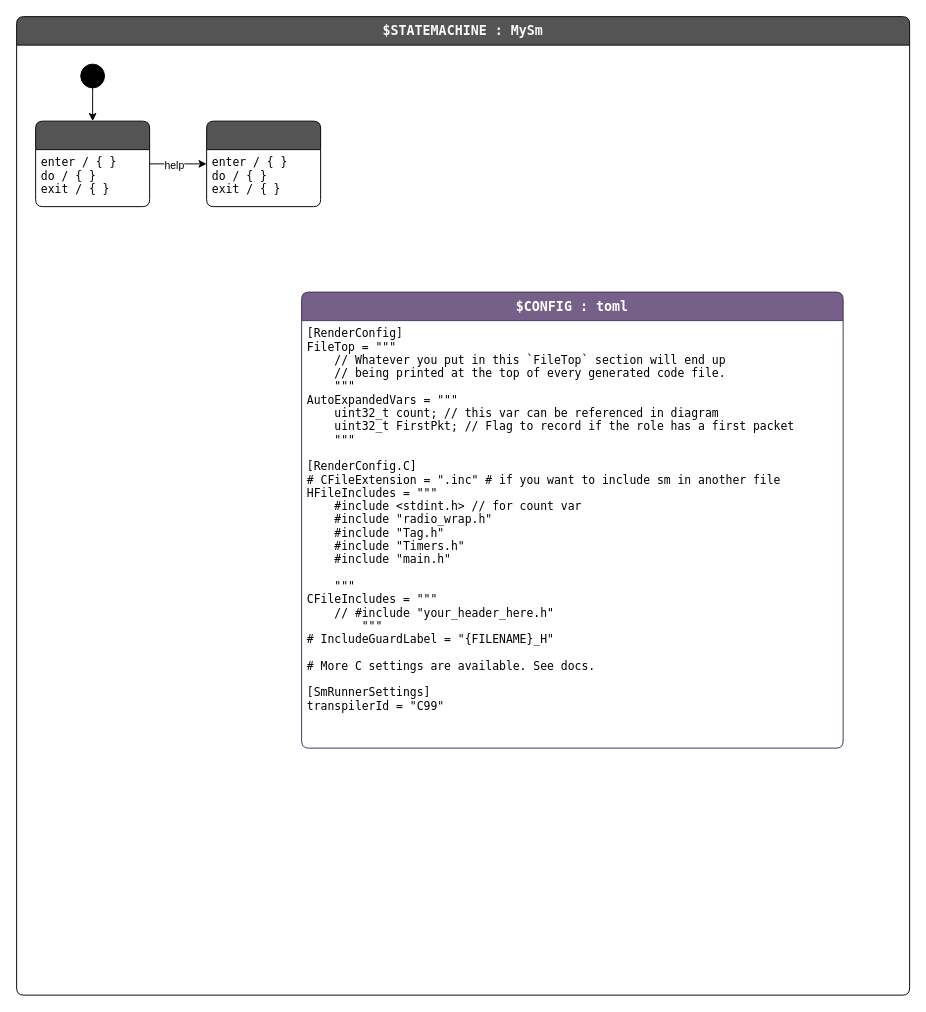
Image size: 926x1012. Some labels were removed from this diagram. The box of each missing label's shape, as (x1, y1, x2, y2) in pixels:
STATE_1: (35, 120, 150, 207)
STATE_2: (206, 120, 321, 207)
